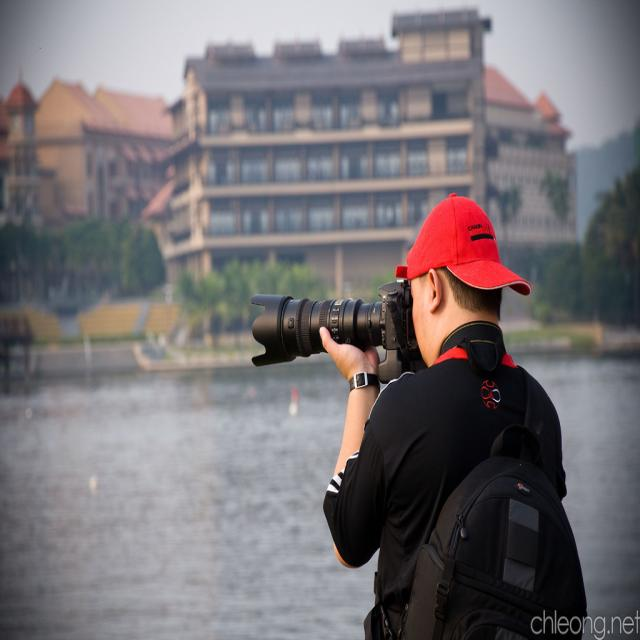Hat: (394, 190, 528, 295)
